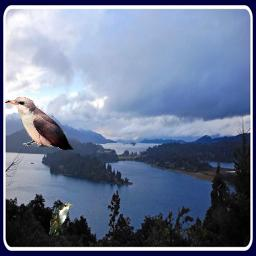Cuckoo: (5, 97, 74, 150), (49, 203, 73, 236)
